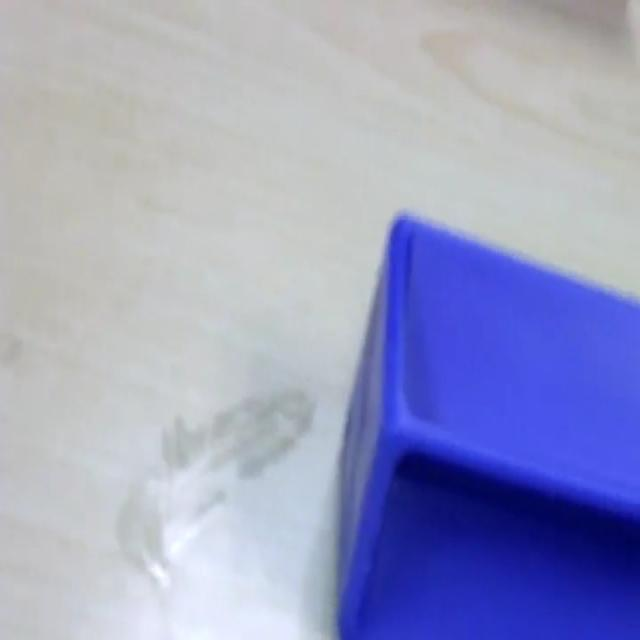blue_block: (335, 208, 639, 637)
